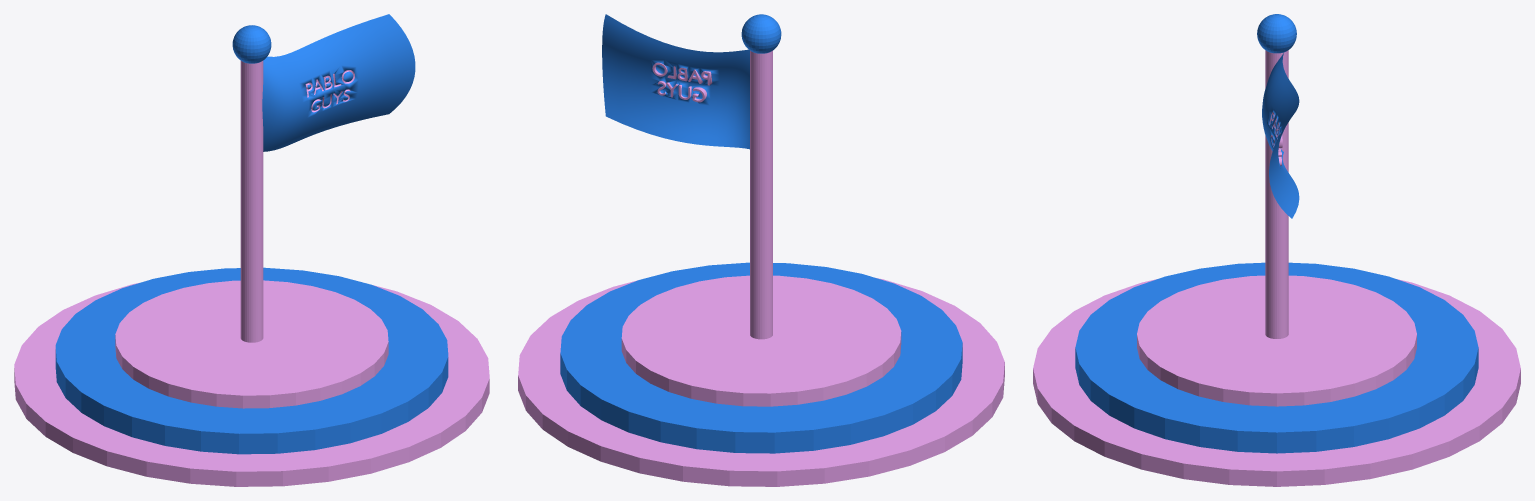
File: checkPoint.fbx
The picture shows the model from 3 angles, left to right: view 1: azimuth 30°, elevation 25°; view 2: azimuth 150°, elevation 25°; view 3: azimuth 270°, elevation 25°; orthographic projection. The views are drawn at different scales.
Parts seen in each view (by area): view 1: Cylinder.004, Cylinder.005, Cylinder.003, SurfPatch, Cylinder.007, Sphere; view 2: Cylinder.004, Cylinder.005, Cylinder.003, SurfPatch, Cylinder.007, Sphere; view 3: Cylinder.004, Cylinder.005, Cylinder.003, Cylinder.007, SurfPatch, Sphere.
Part boxes in pixels (left/top/right/bottom): Cylinder.004: left=55, top=267, right=448, bottom=454; Cylinder.005: left=115, top=280, right=388, bottom=408; Cylinder.003: left=14, top=282, right=489, bottom=486; SurfPatch: left=262, top=14, right=415, bottom=151; Cylinder.007: left=240, top=61, right=263, bottom=342; Sphere: left=232, top=25, right=271, bottom=63; Cylinder.004: left=560, top=262, right=962, bottom=453; Cylinder.005: left=621, top=275, right=901, bottom=406; Cylinder.003: left=518, top=278, right=1004, bottom=486; SurfPatch: left=602, top=14, right=749, bottom=149; Cylinder.007: left=750, top=50, right=772, bottom=339; Sphere: left=741, top=14, right=781, bottom=53; Cylinder.004: left=1075, top=262, right=1478, bottom=453; Cylinder.005: left=1137, top=275, right=1416, bottom=406; Cylinder.003: left=1033, top=279, right=1520, bottom=486; Cylinder.007: left=1265, top=50, right=1288, bottom=338; SurfPatch: left=1262, top=53, right=1299, bottom=218; Sphere: left=1257, top=14, right=1296, bottom=53.
Size of the model in its own units: 487 by 405 by 487.
Materials: 1 (1 with a texture image).
